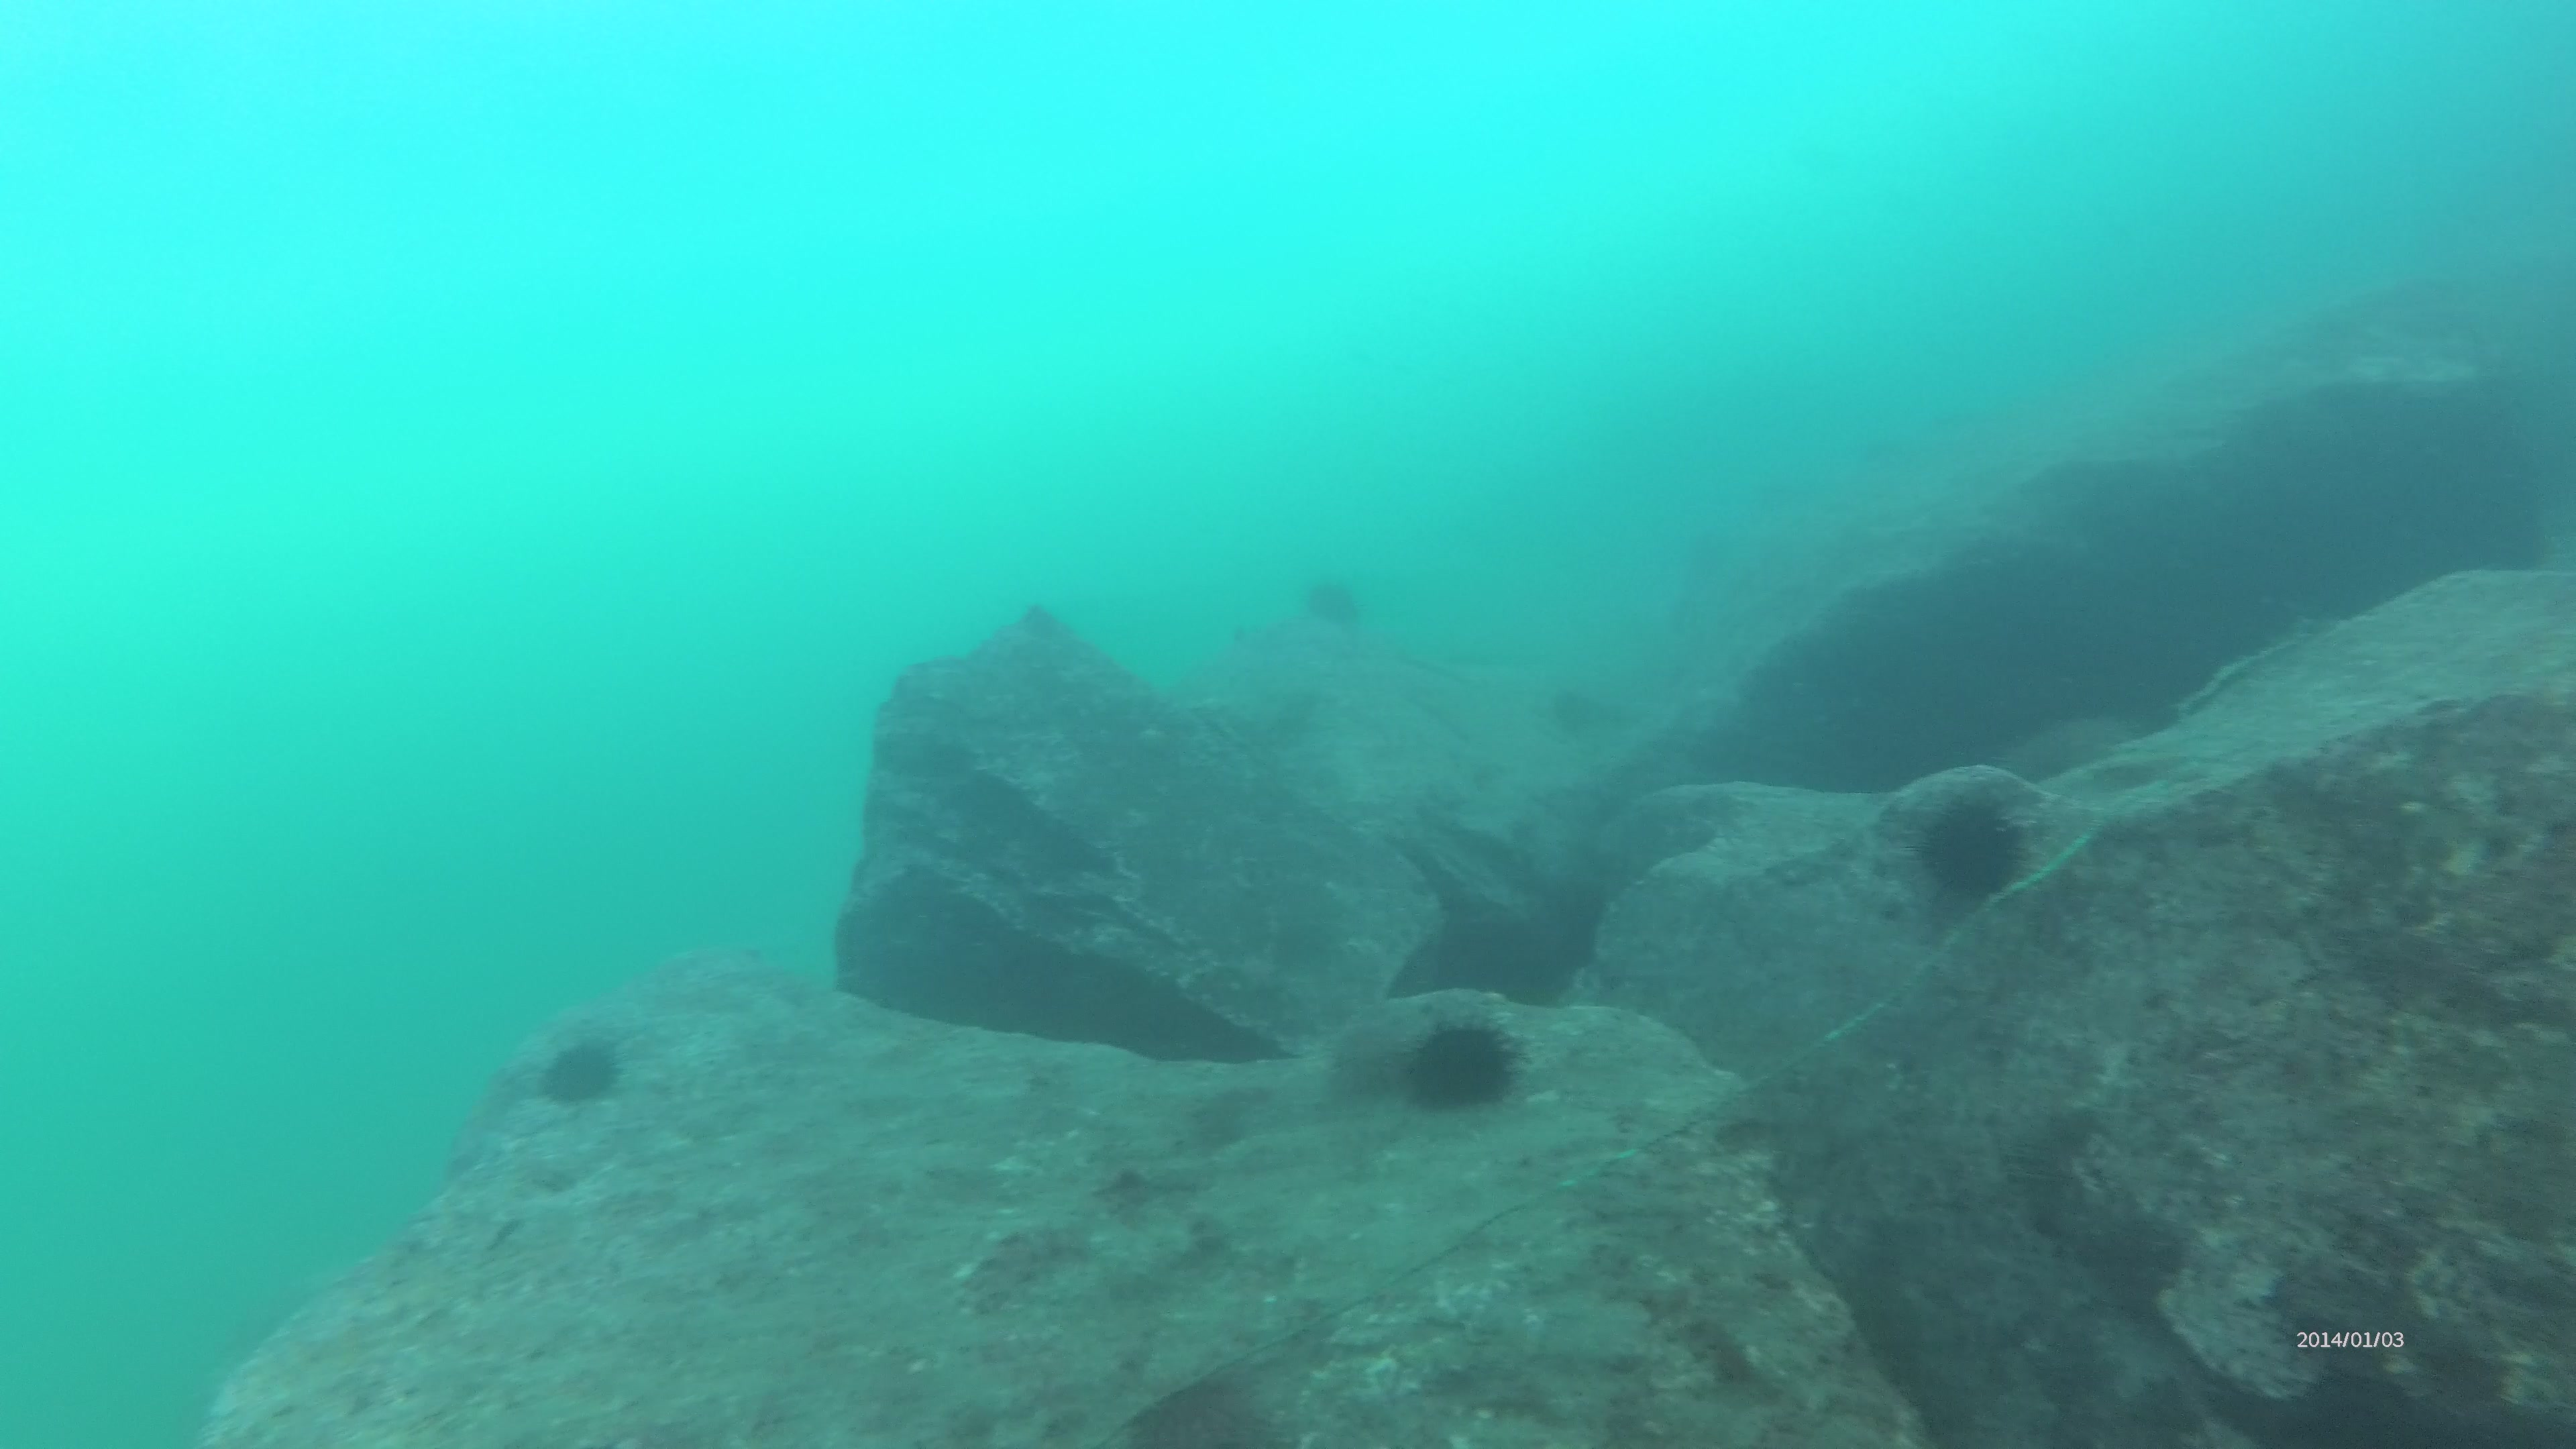echinus: (1911, 789, 2038, 908), (1401, 1021, 1520, 1116), (538, 1037, 621, 1104)
